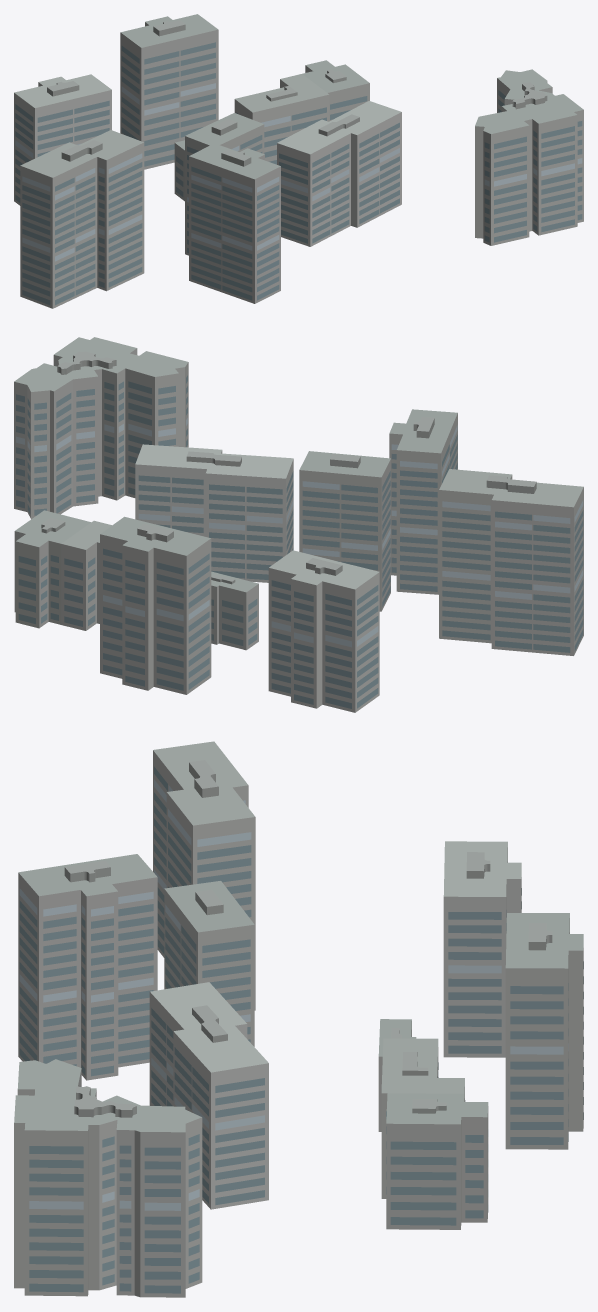
The model's file is apt-a12208103.glb.
3 views of the same model, one above another, from view 1: azimuth 30°, elevation 25°; view 2: azimuth 150°, elevation 25°; view 3: azimuth 270°, elevation 25° (orthographic). The views are drawn at different scales.
Visible parts, largest first — view 1: apt-a12208103; view 2: apt-a12208103; view 3: apt-a12208103.
Boxes of the visible parts, x1,y1,x2,y2 form: apt-a12208103: (14,14,583,308); apt-a12208103: (14,337,583,712); apt-a12208103: (14,741,583,1297).
Bounding box in the file's own units: 157 × 41 × 104.
